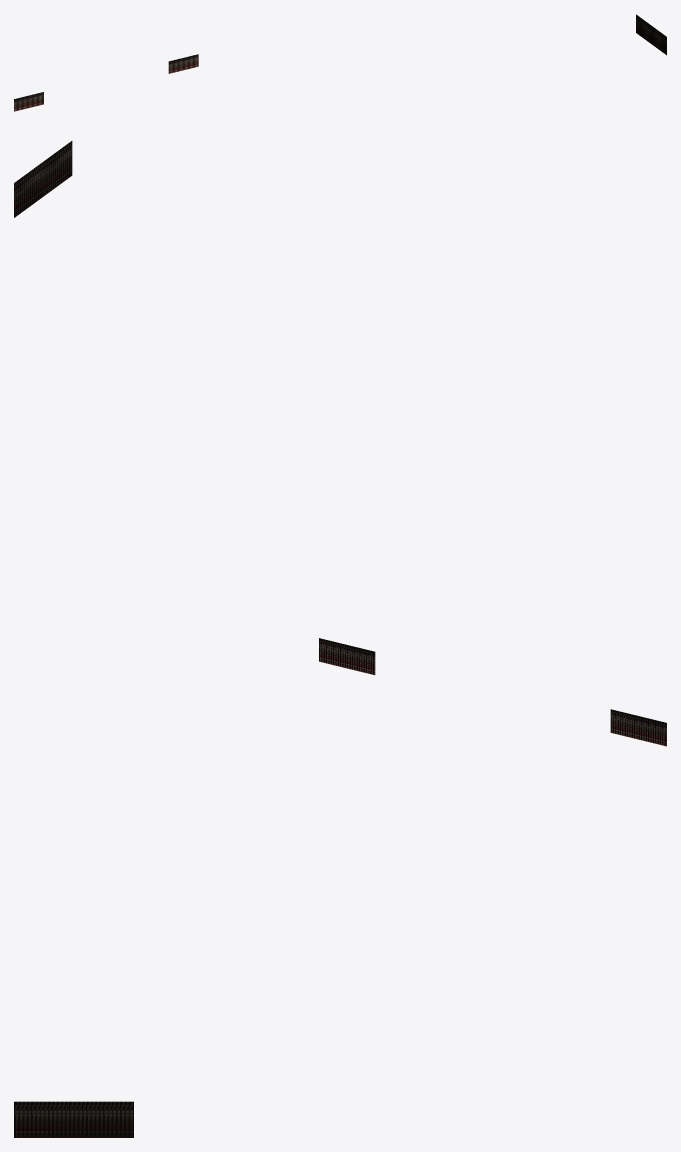
File: ChicagoStealth_Alpha_79.glb
3 views of the same model, one above another, from view 1: azimuth 30°, elevation 25°; view 2: azimuth 150°, elevation 25°; view 3: azimuth 270°, elevation 25° (orthographic). The views are drawn at different scales.
Parts seen in each view (by area): view 1: ChicagoStealth_Alpha_79; view 2: ChicagoStealth_Alpha_79; view 3: ChicagoStealth_Alpha_79.
Boxes of the visible parts, x1,y1,x2,y2 form: ChicagoStealth_Alpha_79: [14, 14, 666, 111]; ChicagoStealth_Alpha_79: [14, 141, 666, 746]; ChicagoStealth_Alpha_79: [14, 1101, 133, 1137].
Bounding box in the file's own units: 404 × 63.88 × 244.
Materials: 1 (1 with a texture image).
